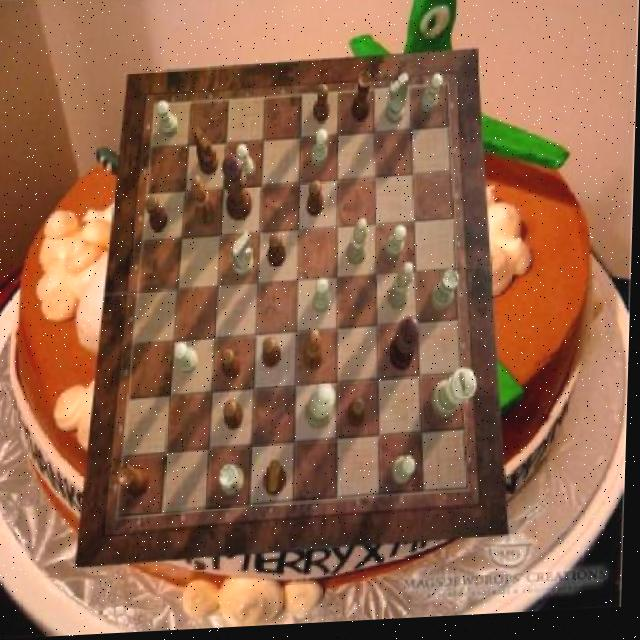bishop: (191, 177, 217, 231), (304, 333, 326, 375)
black-bishop: (391, 321, 423, 377)
black-king: (193, 128, 221, 178), (266, 463, 290, 500)
black-knight: (147, 196, 171, 235), (314, 86, 332, 127), (223, 349, 244, 383), (269, 236, 289, 270), (264, 340, 283, 374), (227, 402, 247, 433), (348, 402, 368, 433), (309, 184, 326, 220)
black-pawn: (222, 157, 256, 225)
black-queen: (119, 464, 153, 500), (352, 75, 371, 127)
black-rook: (389, 267, 415, 314), (347, 222, 371, 269)
white-bishop: (433, 374, 480, 423)
white-king: (386, 77, 410, 129), (233, 232, 257, 279)
white-knight: (422, 79, 445, 120), (156, 102, 180, 140), (176, 344, 200, 377), (387, 229, 409, 264), (237, 146, 257, 181), (396, 461, 419, 490), (313, 132, 331, 169), (314, 281, 332, 317)
white-pawn: (308, 387, 339, 434)
white-queen: (432, 275, 461, 316), (222, 466, 247, 500)
